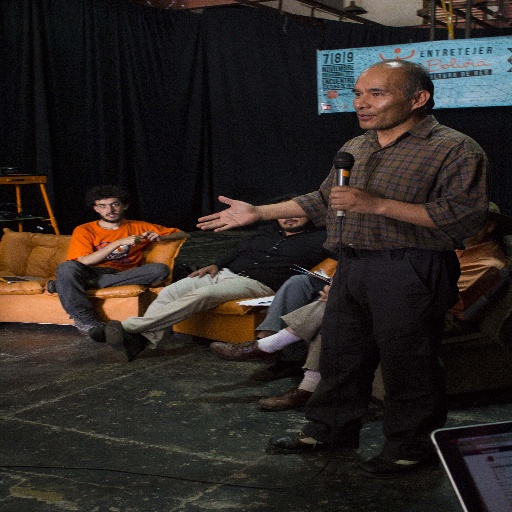hand: (195, 194, 257, 232), (327, 184, 378, 214), (185, 264, 218, 276), (117, 233, 143, 247), (316, 283, 332, 303), (139, 230, 157, 243)
